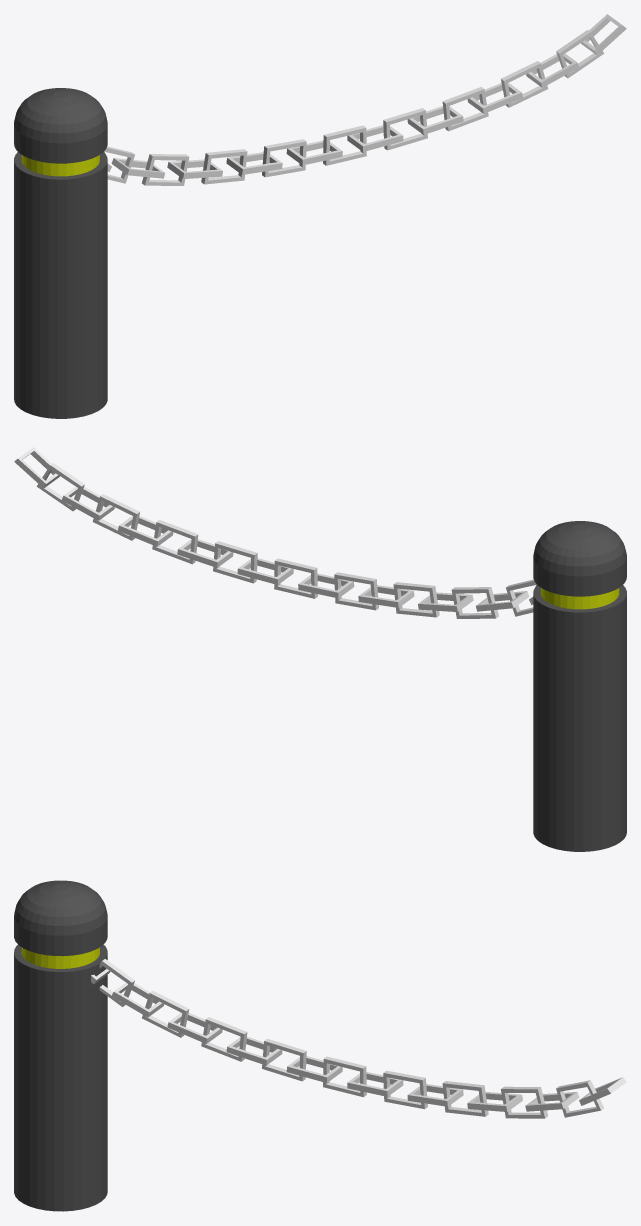
Rendered from railing stackable.fbx.
3 renders of one model, top to bottom at view 1: azimuth 30°, elevation 25°; view 2: azimuth 150°, elevation 25°; view 3: azimuth 330°, elevation 25°, orthographic.
Visible parts, largest first — view 1: Cylinder, Cube; view 2: Cylinder, Cube; view 3: Cylinder, Cube.
Boxes of the visible parts, x1=… form: Cylinder: x1=14, y1=88, x2=107, y2=418; Cube: x1=104, y1=14, x2=626, y2=185; Cylinder: x1=533, y1=521, x2=626, y2=851; Cube: x1=14, y1=447, x2=536, y2=618; Cylinder: x1=14, y1=880, x2=107, y2=1211; Cube: x1=91, y1=959, x2=626, y2=1118.
Bounding box in the file's own units: 736 × 358 × 100.
